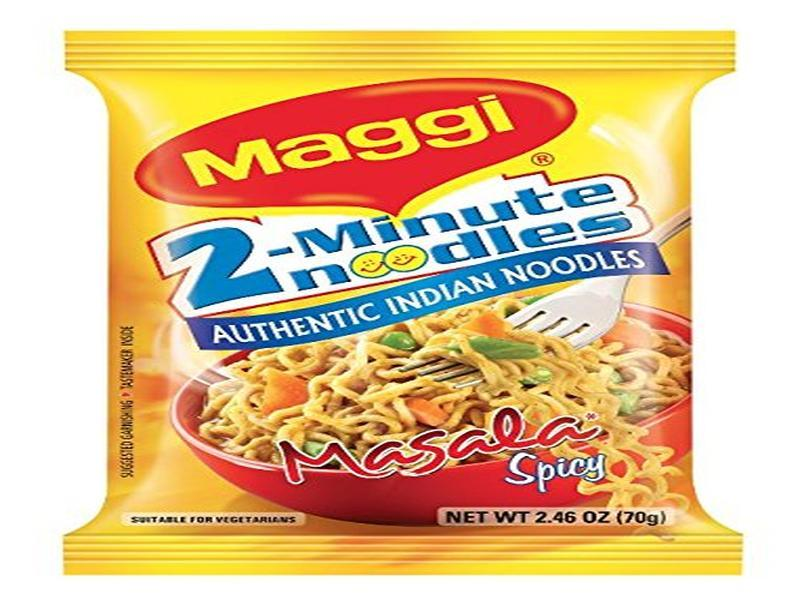maggi-small: (64, 27, 743, 574)
